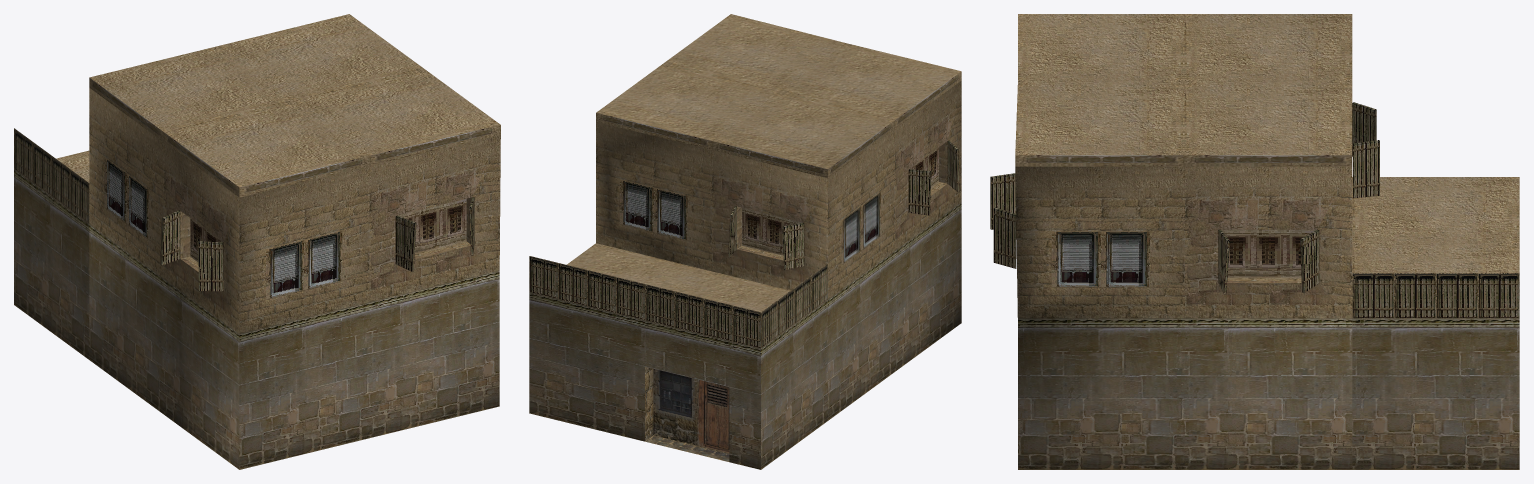
File: M7Z4_FortWall4_H.glb
The picture shows the model from 3 angles, left to right: view 1: azimuth 30°, elevation 25°; view 2: azimuth 150°, elevation 25°; view 3: azimuth 270°, elevation 25°; orthographic projection. The views are drawn at different scales.
Visible parts, largest first — view 1: M7Z4_FORTWALL4_H; view 2: M7Z4_FORTWALL4_H; view 3: M7Z4_FORTWALL4_H.
Boxes of the visible parts, box(x1,y1,x2,y2) form: M7Z4_FORTWALL4_H: box(14, 14, 500, 469); M7Z4_FORTWALL4_H: box(529, 14, 961, 469); M7Z4_FORTWALL4_H: box(990, 14, 1519, 469).
Size of the model in its own units: 9.32 by 8.3 by 12.66.
12 materials, 12 textured.
